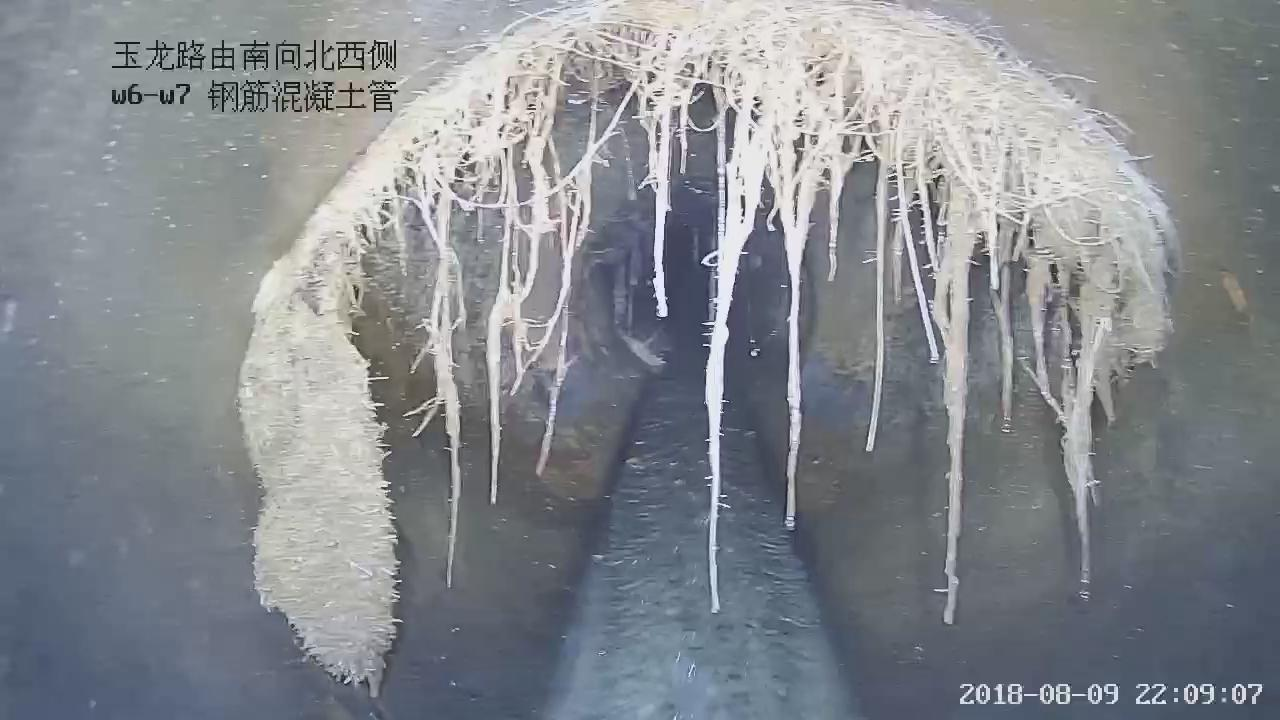SG: (238, 0, 1169, 696)
